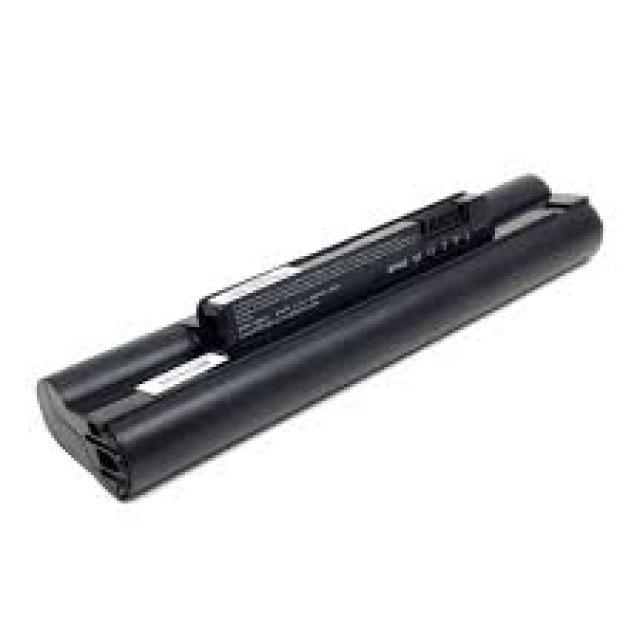battery: (36, 170, 604, 502)
